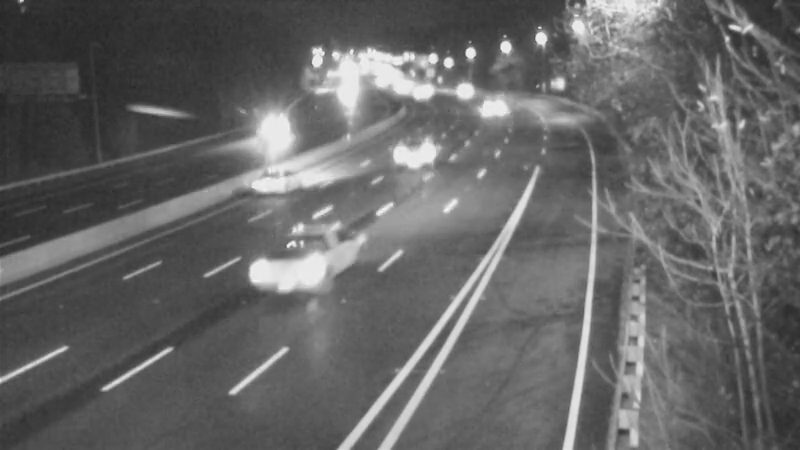vehicle: (225, 149, 305, 229), (248, 232, 328, 312), (443, 65, 493, 115), (467, 83, 517, 133), (392, 122, 442, 172), (249, 108, 299, 158)
